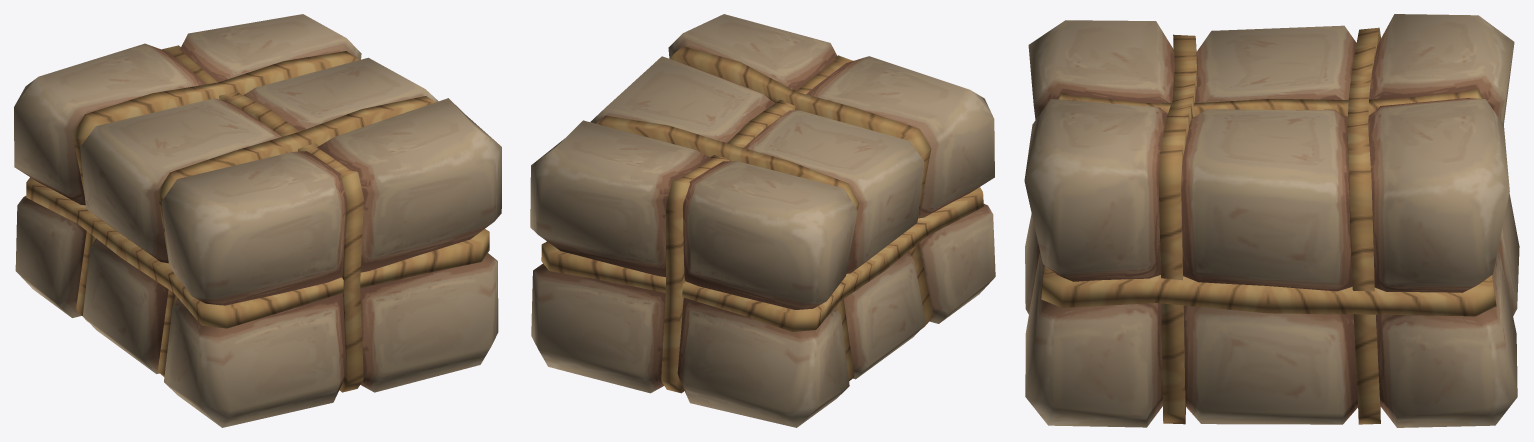
Rendered from SM_PROP_package_battle_01.fbx.
The picture shows the model from 3 angles, left to right: view 1: azimuth 30°, elevation 25°; view 2: azimuth 150°, elevation 25°; view 3: azimuth 270°, elevation 25°; orthographic projection. The views are drawn at different scales.
Visible parts, largest first — view 1: SM_PROP_package_battle_01; view 2: SM_PROP_package_battle_01; view 3: SM_PROP_package_battle_01.
Part boxes in pixels (x1,y1,x2,y2): SM_PROP_package_battle_01: (14, 14, 501, 427); SM_PROP_package_battle_01: (530, 14, 995, 427); SM_PROP_package_battle_01: (1024, 14, 1519, 427).
Size of the model in its own units: 49.52 by 35.59 by 57.24.
